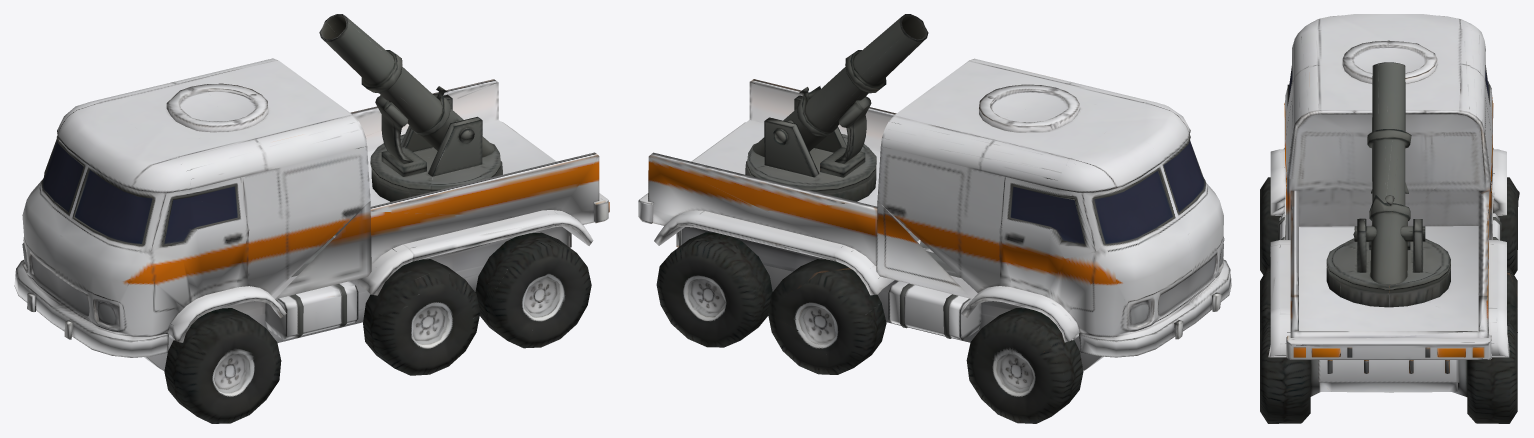
Rendered from service_support.glb.
3 views of the same model, side by side, from view 1: azimuth 30°, elevation 25°; view 2: azimuth 150°, elevation 25°; view 3: azimuth 270°, elevation 25° (orthographic). The views are drawn at different scales.
Parts seen in each view (by area): view 1: geometry_0; view 2: geometry_0; view 3: geometry_0.
Part boxes in pixels (box(x1,y1,x2,y2)): geometry_0: box(14, 14, 609, 423); geometry_0: box(638, 14, 1231, 423); geometry_0: box(1260, 14, 1519, 423).
Bounding box in the file's own units: 0.9521 × 0.564 × 0.4478.
1 material, 1 textured.
